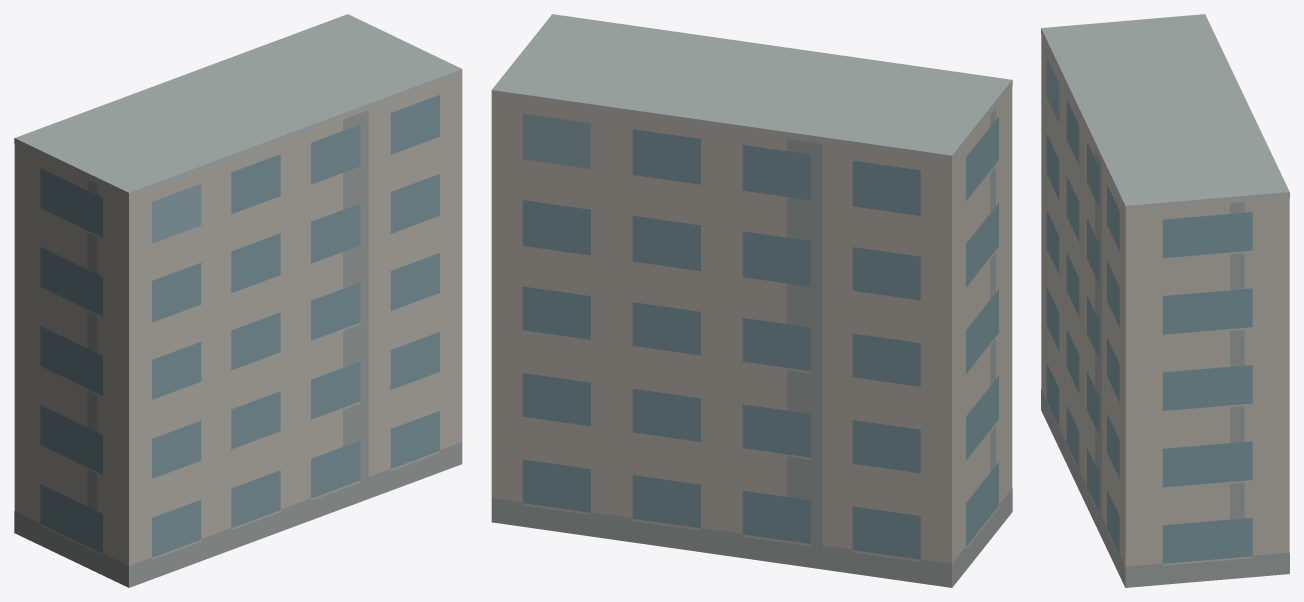
The model's file is residential-498acc52-40f9-4698-ad31-d091c1da0397.glb.
The picture shows the model from 3 angles, left to right: view 1: azimuth 30°, elevation 25°; view 2: azimuth 150°, elevation 25°; view 3: azimuth 270°, elevation 25°; orthographic projection. The views are drawn at different scales.
Parts seen in each view (by area): view 1: residential-498acc52-40f9-4698-ad31-d091c1da0397.tmp; view 2: residential-498acc52-40f9-4698-ad31-d091c1da0397.tmp; view 3: residential-498acc52-40f9-4698-ad31-d091c1da0397.tmp.
Boxes of the visible parts, box(x1,y1,x2,y2) form: residential-498acc52-40f9-4698-ad31-d091c1da0397.tmp: box(14, 14, 462, 587); residential-498acc52-40f9-4698-ad31-d091c1da0397.tmp: box(491, 14, 1012, 587); residential-498acc52-40f9-4698-ad31-d091c1da0397.tmp: box(1041, 14, 1289, 587).
Bounding box in the file's own units: 16.44 × 15.25 × 9.01.
